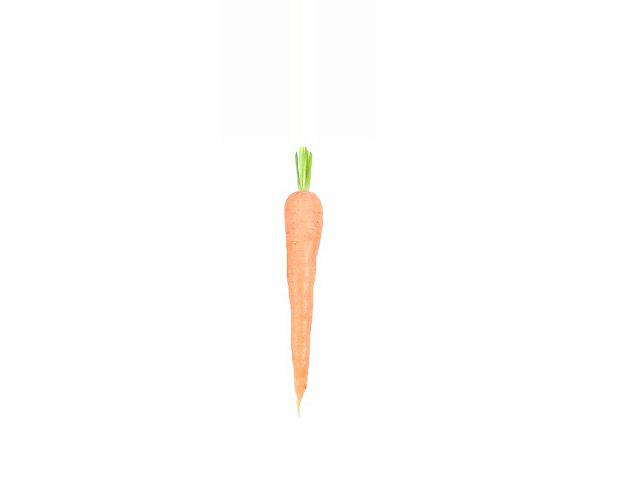carrot: (277, 184, 331, 414)
